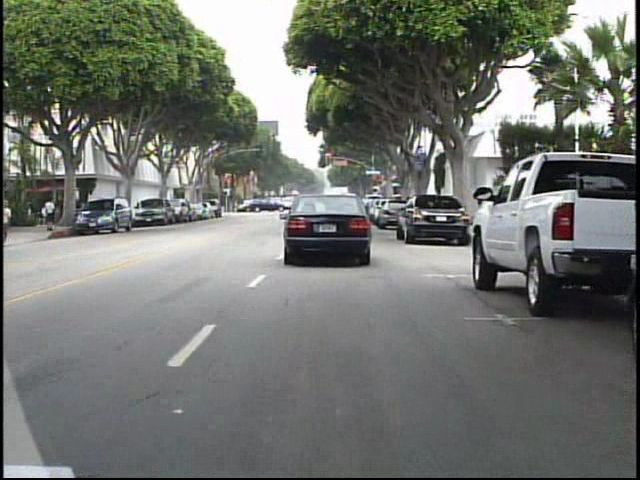person: (44, 194, 61, 232), (266, 193, 279, 217)
